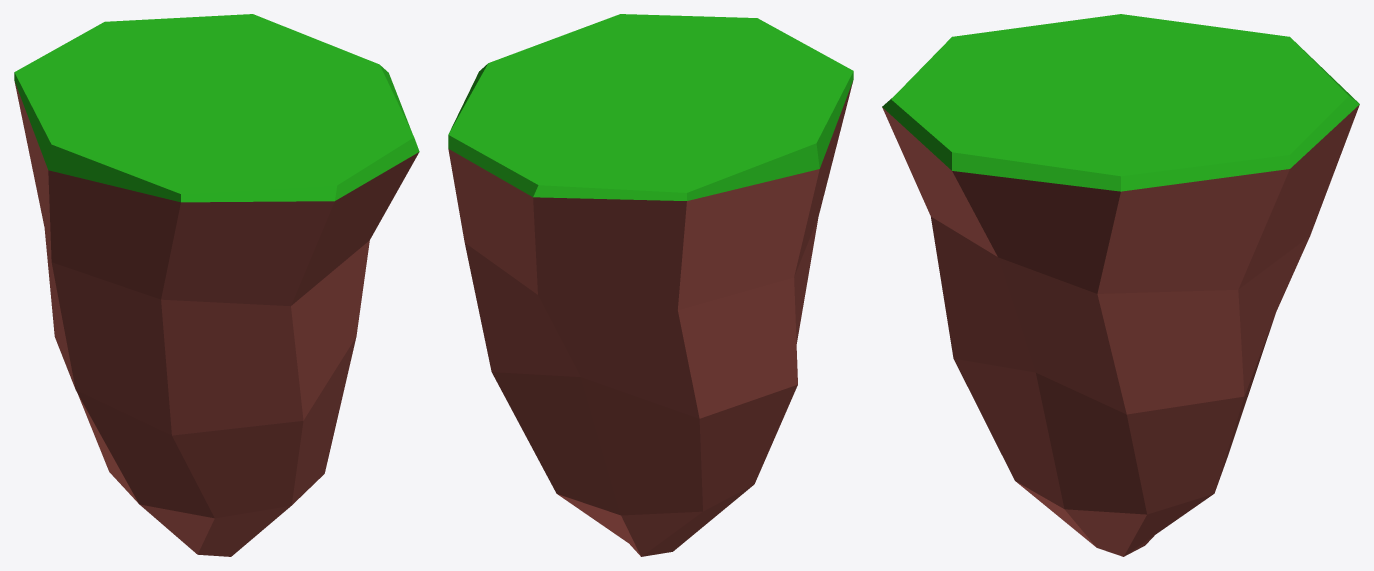
Rendered from Island02.obj.
The picture shows the model from 3 angles, left to right: view 1: azimuth 30°, elevation 25°; view 2: azimuth 150°, elevation 25°; view 3: azimuth 270°, elevation 25°; orthographic projection.
Visible parts, largest first — view 1: Cylinder; view 2: Cylinder; view 3: Cylinder.
Part boxes in pixels (x1=…): Cylinder: x1=14, y1=14, x2=419, y2=556; Cylinder: x1=448, y1=14, x2=853, y2=556; Cylinder: x1=882, y1=14, x2=1359, y2=556.
Bounding box in the file's own units: 1.2 × 1.5 × 1.44.
